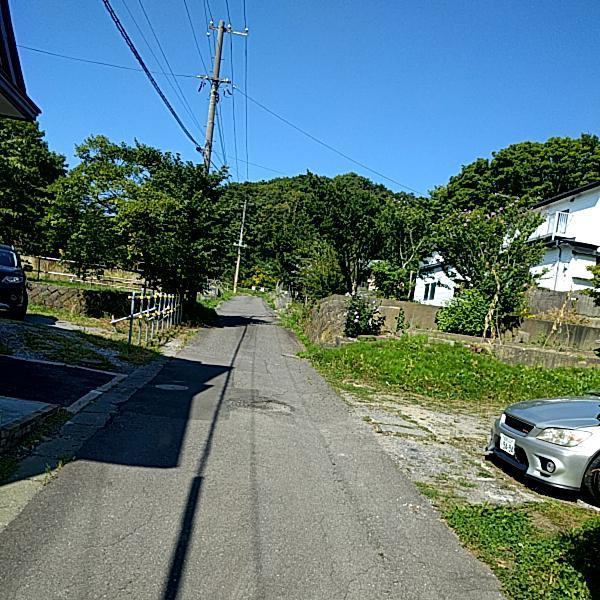D50: (227, 396, 286, 409), (153, 381, 187, 390)
